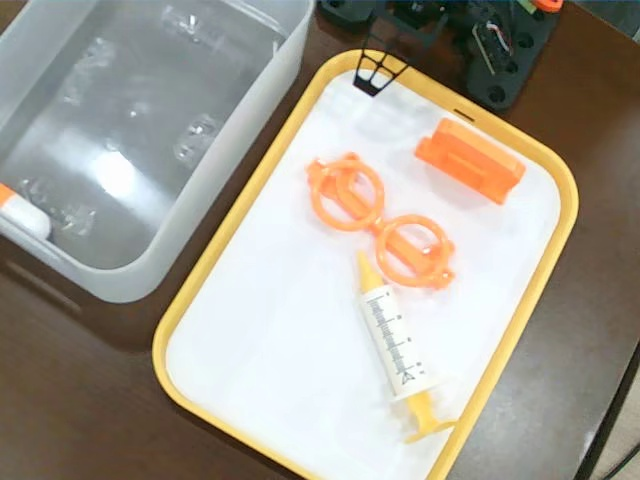pill: (2, 179, 52, 241)
syringe: (351, 253, 463, 445)
